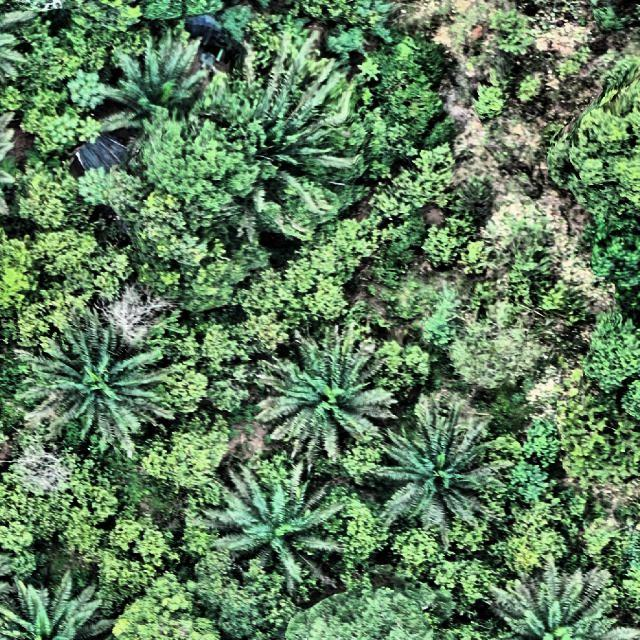Kelapa_Sawit: (233, 39, 358, 238), (378, 416, 500, 540), (268, 342, 391, 458), (49, 328, 162, 447), (215, 470, 328, 588), (97, 38, 208, 128), (490, 565, 611, 640), (0, 570, 117, 640)
